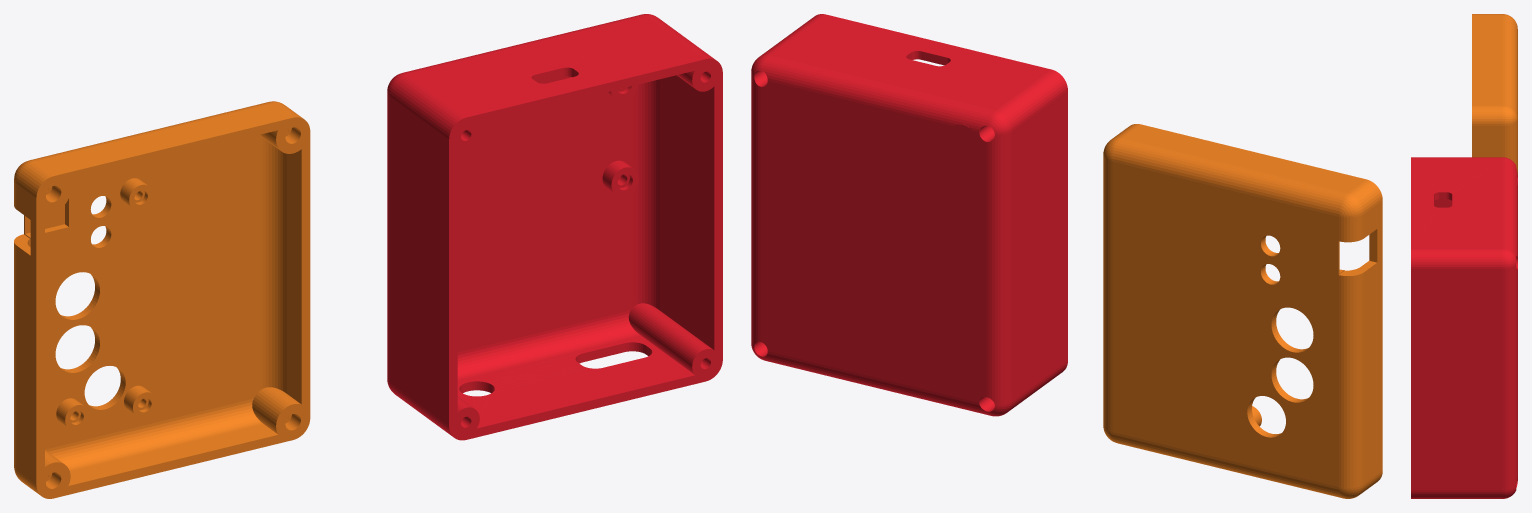
The model's file is resq_casing.obj.
The picture shows the model from 3 angles, left to right: view 1: azimuth 30°, elevation 25°; view 2: azimuth 150°, elevation 25°; view 3: azimuth 270°, elevation 25°; orthographic projection. The views are drawn at different scales.
Visible parts, largest first — view 1: obj_0, obj_1; view 2: obj_0, obj_1; view 3: obj_0, obj_1.
Boxes of the visible parts, x1,y1,x2,y2 form: obj_0: [387, 14, 722, 440]; obj_1: [14, 101, 310, 498]; obj_0: [751, 14, 1067, 416]; obj_1: [1103, 124, 1382, 498]; obj_0: [1411, 157, 1517, 498]; obj_1: [1472, 14, 1517, 174].
Bounding box in the file's own units: 189 × 91 × 35.
